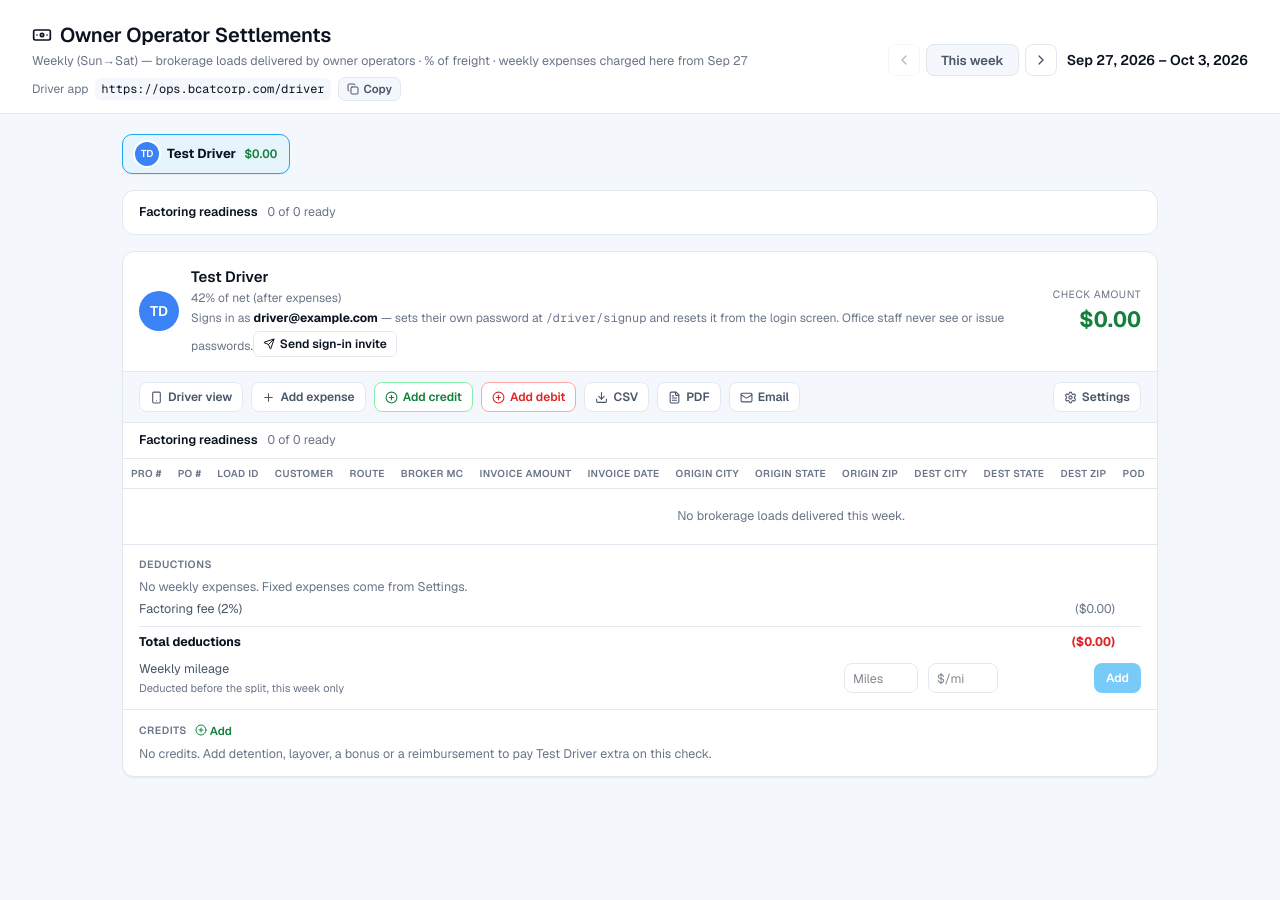
OwnerOperatorPayPage › lets you look at a week that has not happened yet
Expected: the text "Upcoming" is not shown
Click the button named "next week".
click(1041, 60)  # box [1025,44,1057,76]
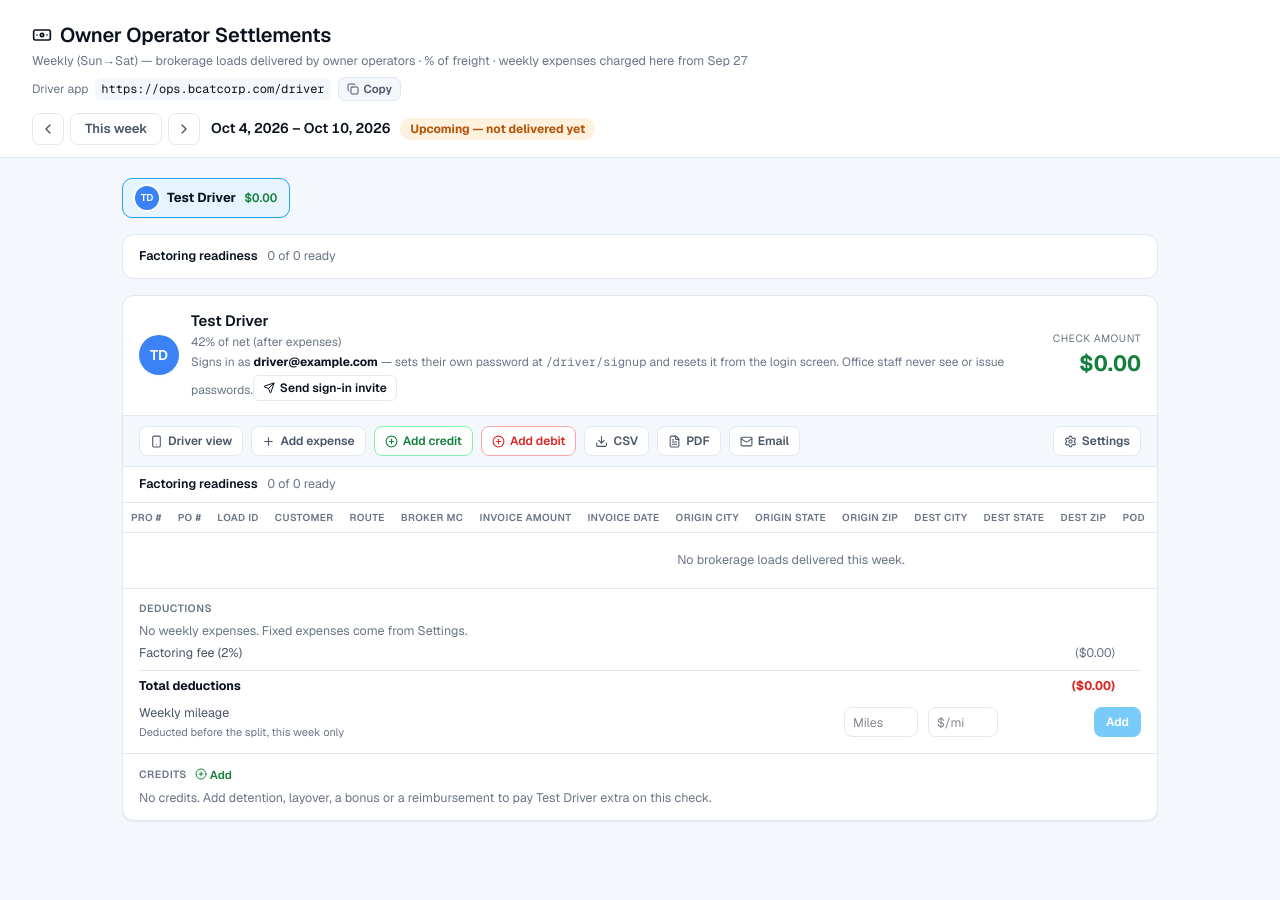
Now the text "Upcoming — not delivered yet" is shown, box [400,118,595,140]
